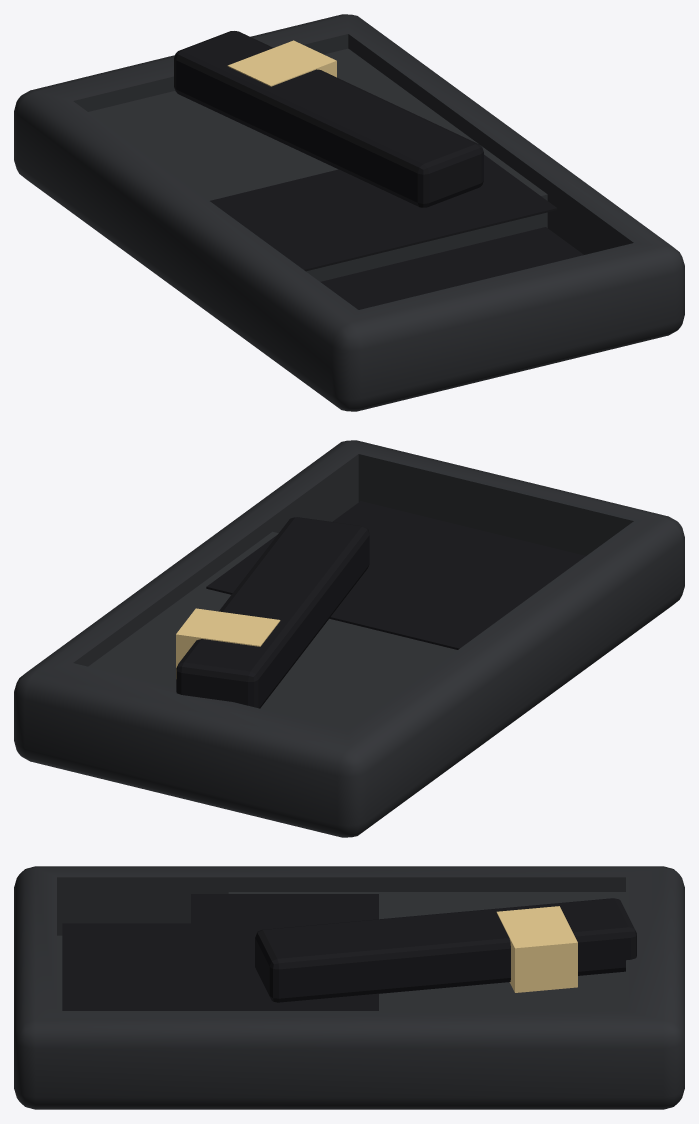
File: inkstone.glb
3 renders of one model, top to bottom at view 1: azimuth 30°, elevation 25°; view 2: azimuth 150°, elevation 25°; view 3: azimuth 270°, elevation 25°, orthographic.
Visible parts, largest first — view 1: inkstone, ink_stick, ink_film, ink_pool, stick_band; view 2: inkstone, ink_stick, ink_film, ink_pool, stick_band; view 3: inkstone, ink_stick, ink_film, ink_pool, stick_band.
Part boxes in pixels (x1=…): inkstone: x1=14, y1=14, x2=684, y2=411; ink_stick: x1=174, y1=31, x2=483, y2=207; ink_film: x1=210, y1=154, x2=557, y2=271; ink_pool: x1=320, y1=227, x2=583, y2=309; stick_band: x1=227, y1=40, x2=336, y2=86; inkstone: x1=14, y1=440, x2=684, y2=837; ink_stick: x1=176, y1=517, x2=369, y2=708; ink_film: x1=206, y1=534, x2=553, y2=649; ink_pool: x1=332, y1=501, x2=585, y2=579; stick_band: x1=176, y1=608, x2=280, y2=678; inkstone: x1=14, y1=866, x2=684, y2=1109; ink_stick: x1=255, y1=898, x2=636, y2=1002; ink_film: x1=191, y1=894, x2=378, y2=1010; ink_pool: x1=62, y1=923, x2=190, y2=1010; stick_band: x1=496, y1=906, x2=577, y2=992.
Bounding box in the file's own units: 0.075 × 0.0242 × 0.125.
